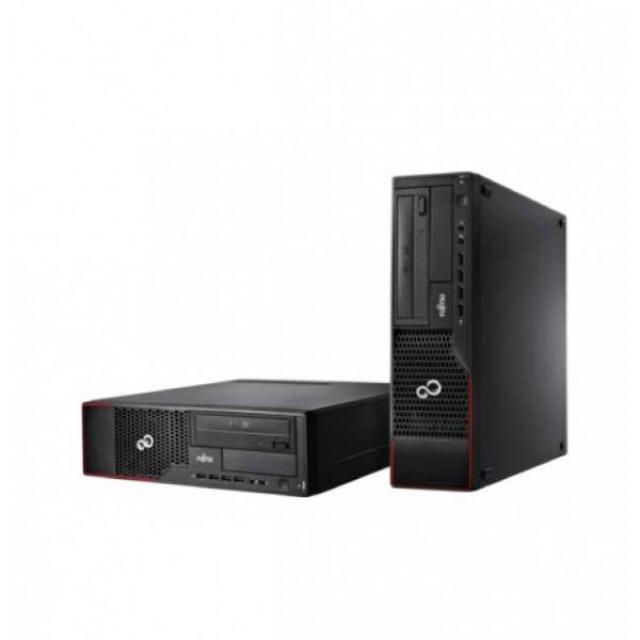Desktop-PC: (380, 150, 578, 504), (70, 360, 370, 502)
